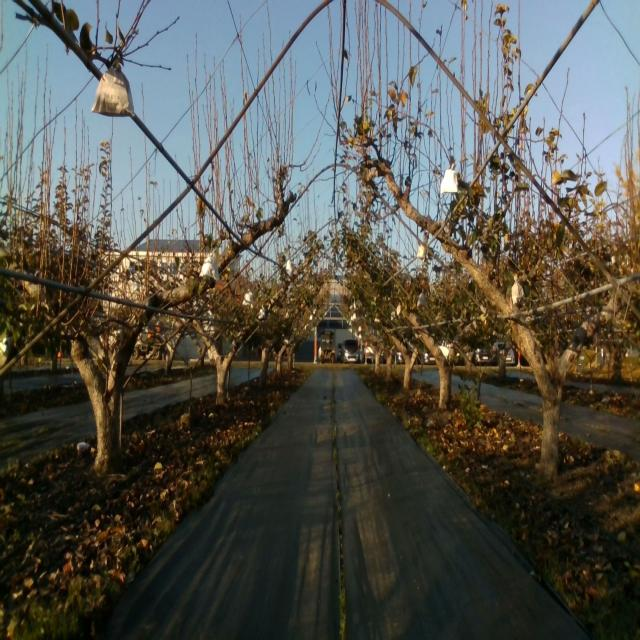pearbags: (90, 58, 135, 119), (200, 252, 221, 282), (440, 162, 459, 194), (511, 274, 525, 305), (242, 288, 253, 309)
